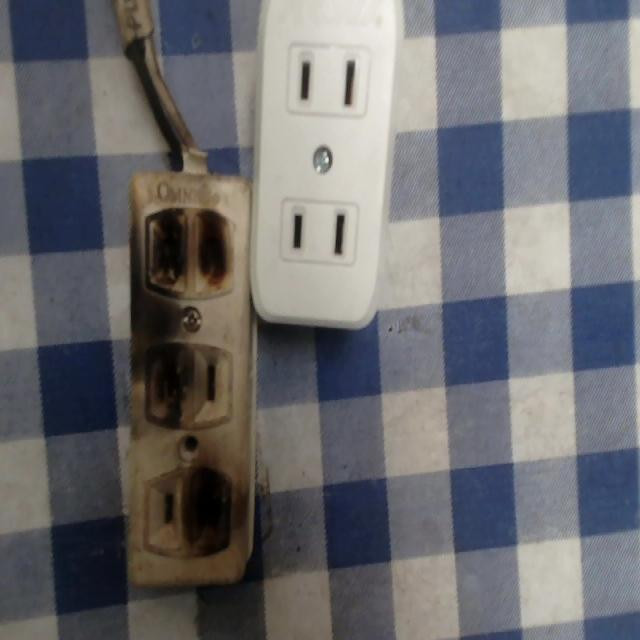-: (145, 208, 246, 292), (136, 340, 193, 435), (184, 456, 243, 541)
